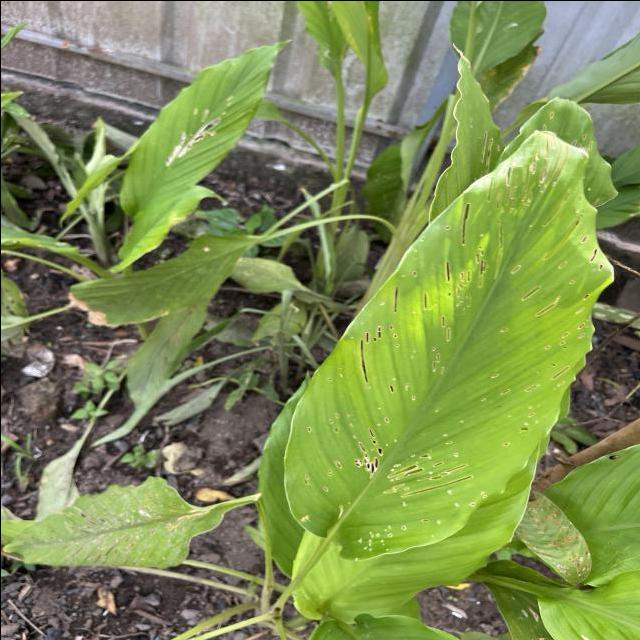Curcuma longa: (273, 127, 619, 567)
